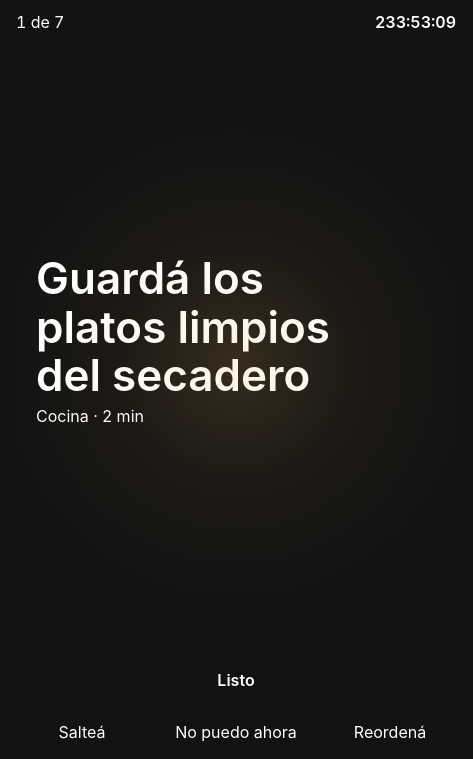
Test: «Listo» avanza al paso siguiente
Check: the element showing "Guardá los platos limpios del secadero Cocina · 2 min" is shown, box left=36, top=251, right=330, bottom=426
Click the button "Listo": (236, 680) left=16, top=648, right=456, bottom=712
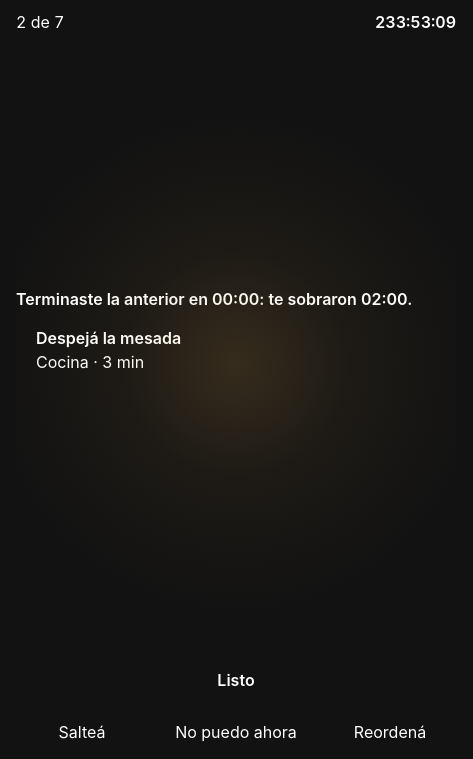
Check: the heading "Despejá la mesada" is shown, box left=36, top=328, right=181, bottom=348
